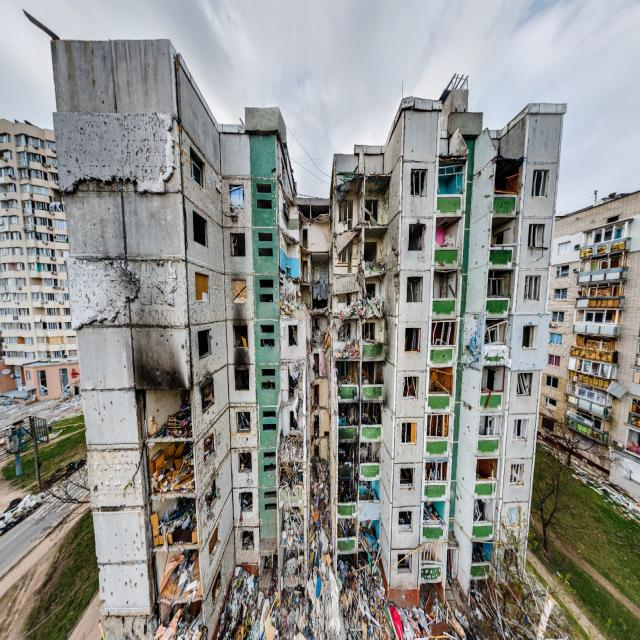building: (48, 35, 300, 637), (327, 77, 566, 614), (538, 188, 640, 501), (0, 116, 80, 401)
